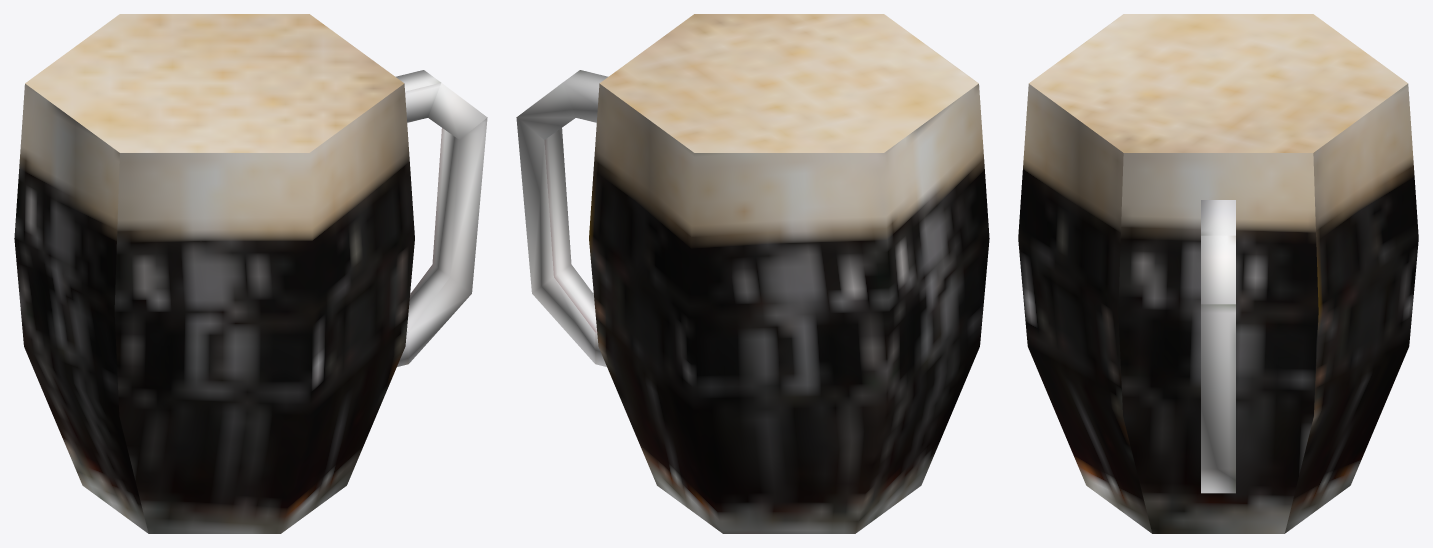
Rendered from BeerPorterInGlassV2.fbx.
The picture shows the model from 3 angles, left to right: view 1: azimuth 30°, elevation 25°; view 2: azimuth 150°, elevation 25°; view 3: azimuth 270°, elevation 25°; orthographic projection.
Parts seen in each view (by area): view 1: Beer&Wine.014; view 2: Beer&Wine.014; view 3: Beer&Wine.014.
Part boxes in pixels (<box>): Beer&Wine.014: <box>14,14,487,533</box>; Beer&Wine.014: <box>516,14,989,533</box>; Beer&Wine.014: <box>1018,14,1418,533</box>.
Size of the model in its own units: 0.2392 by 0.2219 by 0.2003.
